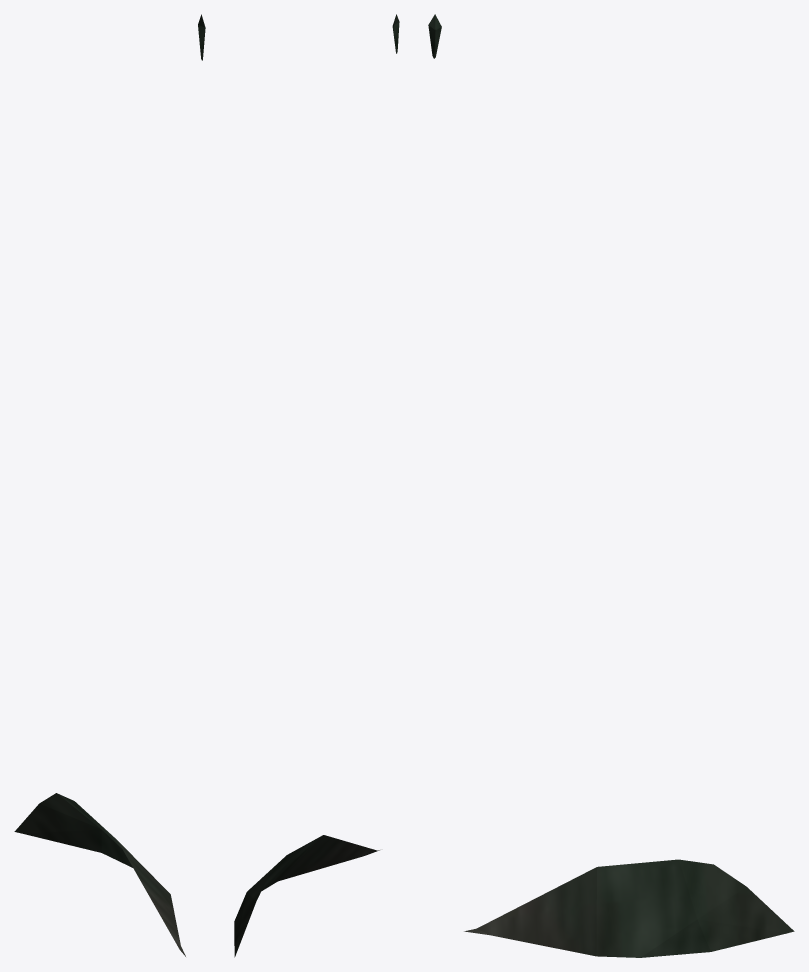
3 renders of one model, left to right at view 1: azimuth 30°, elevation 25°; view 2: azimuth 150°, elevation 25°; view 3: azimuth 270°, elevation 25°, orthographic. The views are drawn at different scales.
Bounding box in the file's own units: 0.3539 × 5.71 × 2.07.
Materials: 1 (1 with a texture image).
